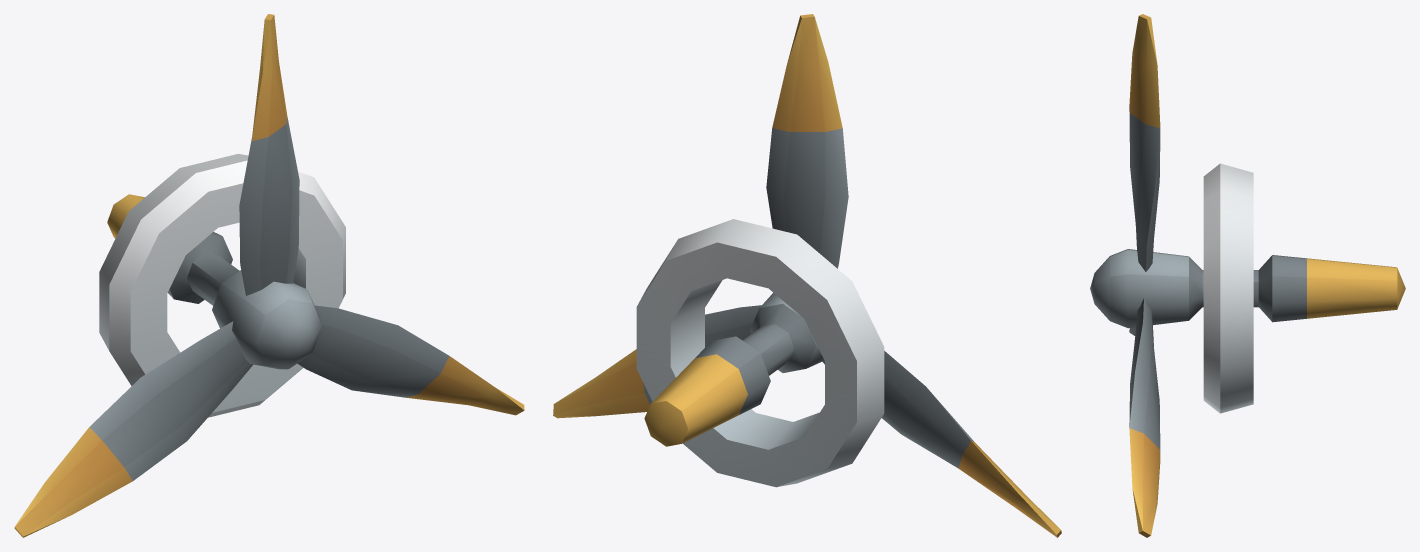
Rendered from windturbine_tall_fan.obj.
3 views of the same model, side by side, from view 1: azimuth 30°, elevation 25°; view 2: azimuth 150°, elevation 25°; view 3: azimuth 270°, elevation 25° (orthographic). The views are drawn at different scales.
Size of the model in its own units: 1.67 by 1.44 by 0.9998.
Materials: 1 (1 with a texture image).
